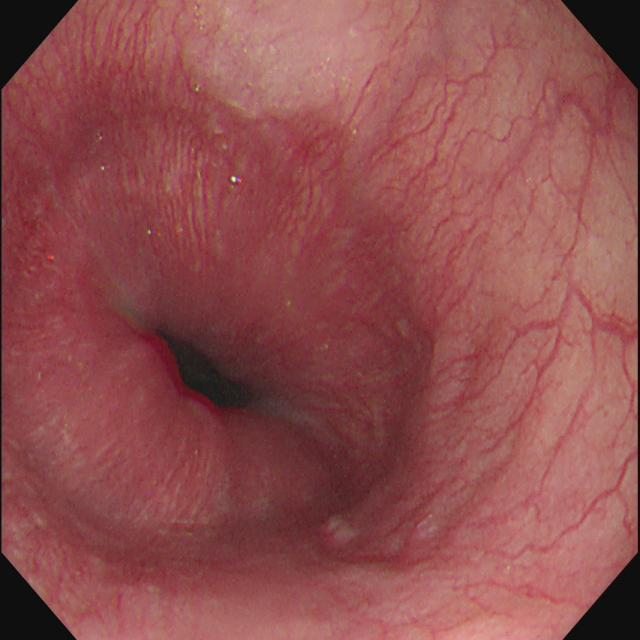I: (18, 95, 443, 564)
U: (231, 176, 244, 186)
